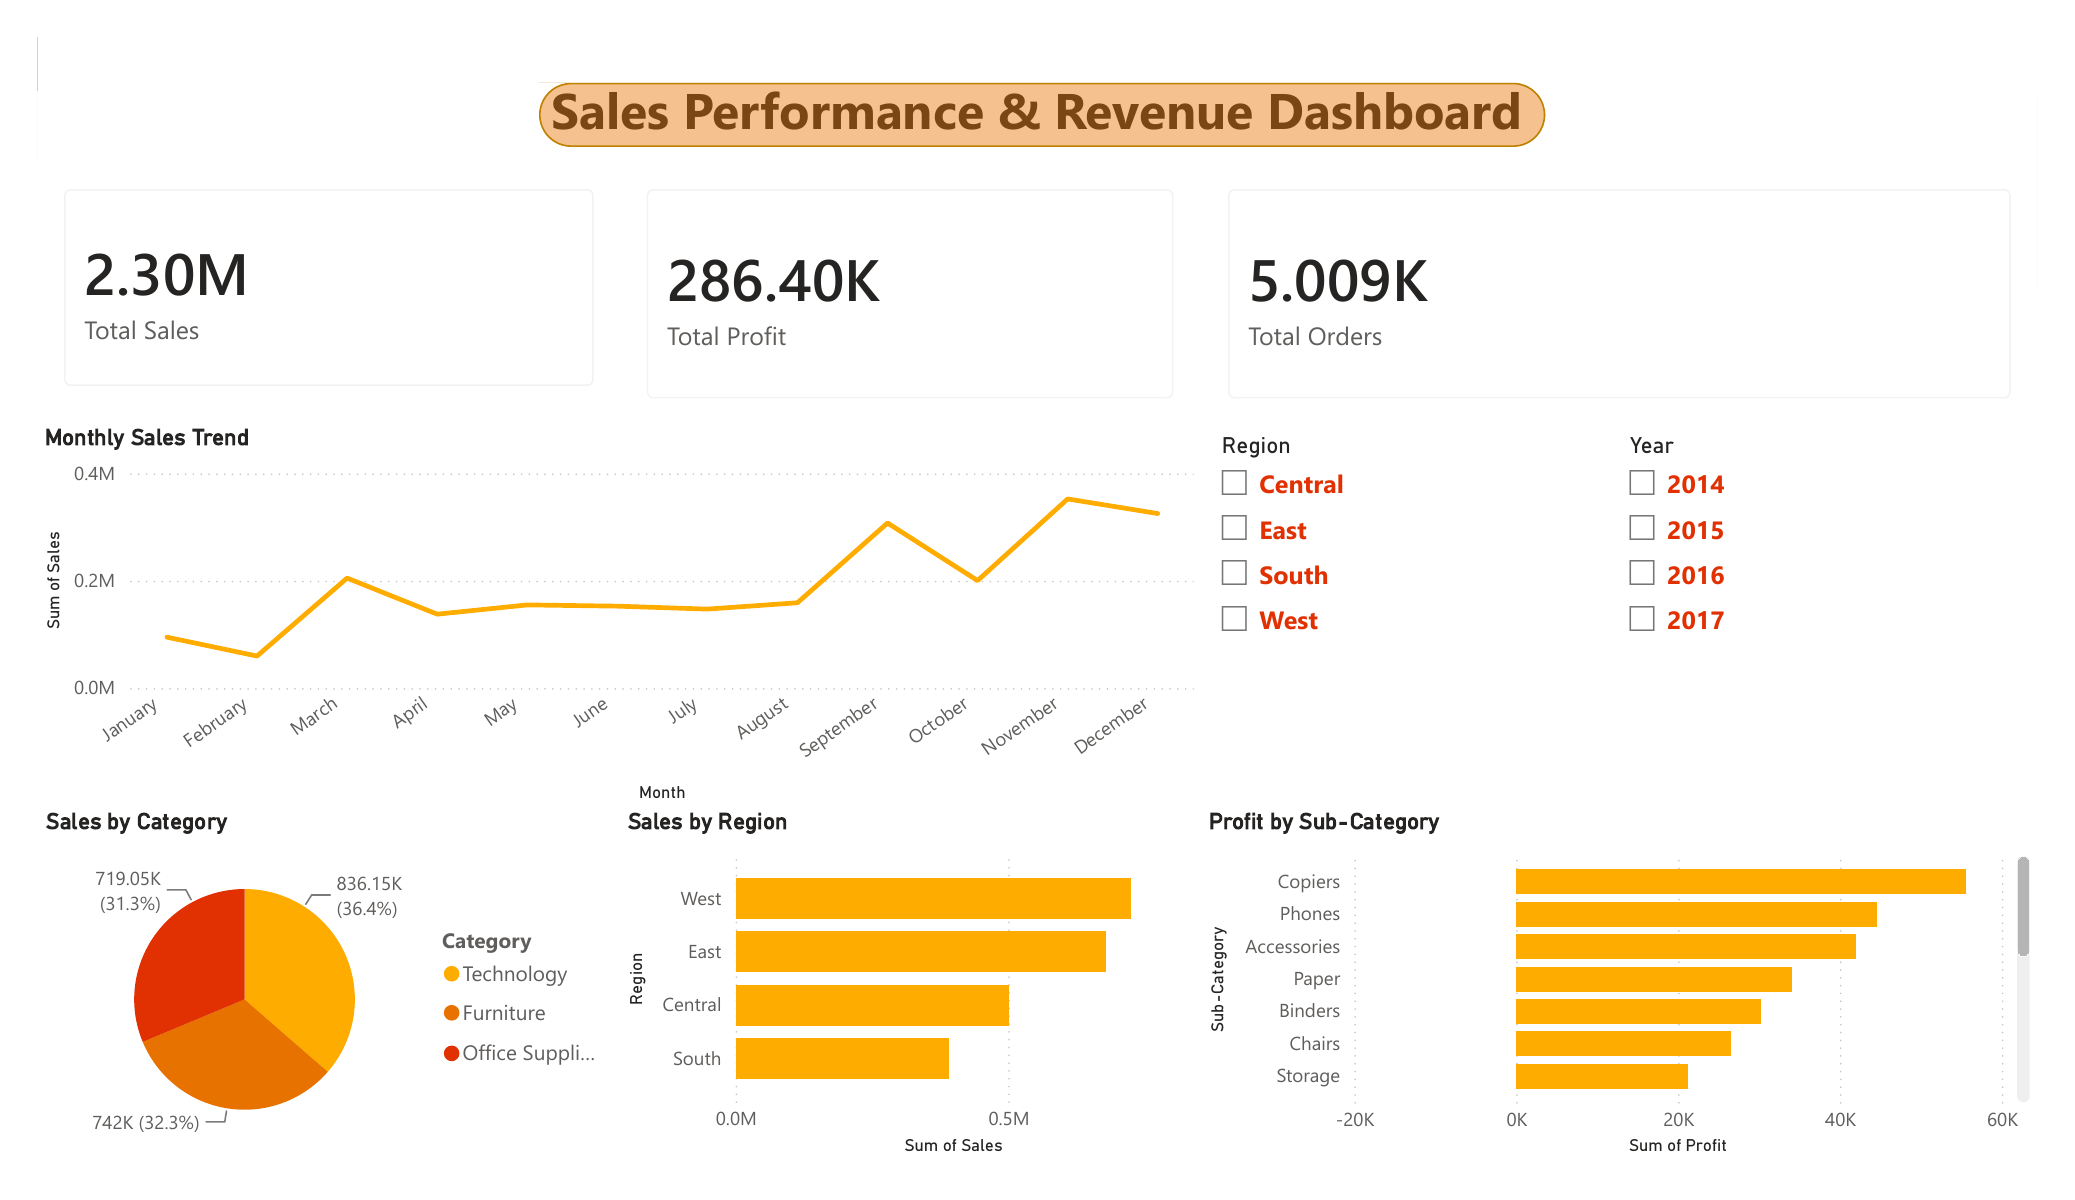

Layout of this report page (visuals, bound fields, positions):
{"tool":"powerbi","page":{"name":"Page 1","canvas":[1280,720],"ordinal":0},"visuals":[{"type":"cardVisual","fields":{"Data":["Sum(Sample - Superstore.Sales)"]},"box":[0,79.6,373.2,160.5],"z":0},{"type":"cardVisual","fields":{"Data":["Sum(Sample - Superstore.Profit)"]},"box":[373.2,79.6,371.9,168.8],"z":1000},{"type":"cardVisual","fields":{"Data":["Count(Sample - Superstore.Order ID)"]},"box":[745.1,79.6,535.2,168.8],"z":2000},{"type":"clusteredBarChart","title":"Sales by Region","fields":{"Category":["Sample - Superstore.Region"],"Y":["Sum(Sample - Superstore.Sales)"]},"box":[373.2,494,371.9,226.4],"z":3000},{"type":"pieChart","title":"Sales by Category","fields":{"Category":["Sample - Superstore.Category"],"Y":["Sum(Sample - Superstore.Sales)"]},"box":[1.4,494,371.9,226.4],"z":4000},{"type":"lineChart","title":"Monthly Sales Trend","fields":{"Category":["Sample - Superstore.Order Date.Variation.Date Hierarchy.Month"],"Y":["Sum(Sample - Superstore.Sales)"]},"box":[0,248.4,745.1,245.6],"z":5000},{"type":"clusteredBarChart","title":"Profit by Sub-Category","fields":{"Category":["Sample - Superstore.Sub-Category"],"Y":["Sum(Sample - Superstore.Profit)"]},"box":[745.1,494,535.2,226.4],"z":6000},{"type":"slicer","fields":{"Values":["Sample - Superstore.Region"]},"box":[745.1,248.4,260.7,247],"z":7000},{"type":"slicer","fields":{"Values":["Sample - Superstore.Order Date.Variation.Date Hierarchy.Year"]},"box":[1005.8,248.4,274.4,245.6],"z":8000},{"type":"textbox","box":[209.9,19.2,859,60.4],"z":9000},{"type":"shape","box":[321.1,28.8,643.6,41.2],"z":10000}]}

Visuals, with their boxes on the page's 1280x720 design canvas (x1, y1, x2, y2). These are canvas units, not pixel positions in the 2075x1200 screenshot, which may show the page scaled, cropped or inside an application window:
cardVisual - Sum(Sample - Superstore.Sales): Rect(0, 80, 373, 240)
cardVisual - Sum(Sample - Superstore.Profit): Rect(373, 80, 745, 248)
cardVisual - Count(Sample - Superstore.Order ID): Rect(745, 80, 1280, 248)
"Sales by Region" clusteredBarChart: Rect(373, 494, 745, 720)
"Sales by Category" pieChart: Rect(1, 494, 373, 720)
"Monthly Sales Trend" lineChart: Rect(0, 248, 745, 494)
"Profit by Sub-Category" clusteredBarChart: Rect(745, 494, 1280, 720)
slicer - Sample - Superstore.Region: Rect(745, 248, 1006, 495)
slicer - Sample - Superstore.Order Date.Variation.Date Hierarchy.Year: Rect(1006, 248, 1280, 494)
textbox: Rect(210, 19, 1069, 80)
shape: Rect(321, 29, 965, 70)
